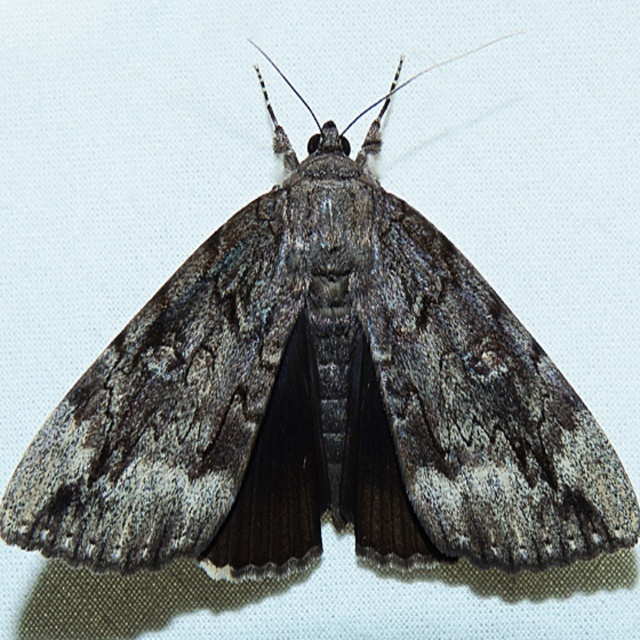Butterfly: (26, 18, 629, 593)
